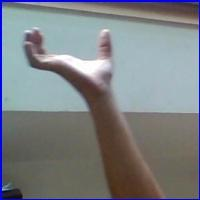B: (16, 20, 127, 93)
